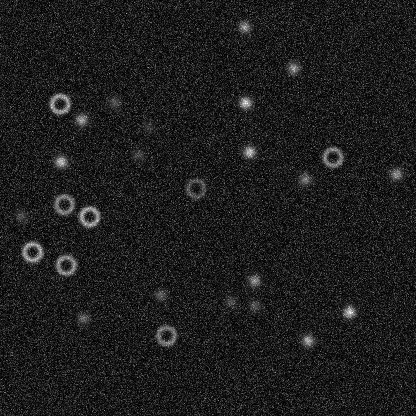Ring: (154, 323, 178, 347), (47, 91, 71, 115), (53, 252, 77, 276), (51, 192, 75, 216), (77, 204, 101, 228), (20, 239, 44, 263), (183, 176, 207, 200), (320, 145, 344, 169)
Spot: (241, 143, 257, 159), (237, 94, 253, 110), (285, 59, 301, 75), (236, 18, 252, 34), (152, 286, 168, 302), (12, 208, 28, 224), (296, 171, 312, 187), (52, 153, 68, 169), (140, 118, 156, 134), (388, 165, 404, 181), (106, 94, 122, 110), (246, 297, 262, 313), (246, 272, 262, 288), (73, 111, 89, 127), (299, 332, 315, 348), (129, 147, 145, 163), (75, 310, 91, 326), (222, 293, 238, 309), (341, 303, 357, 319)
